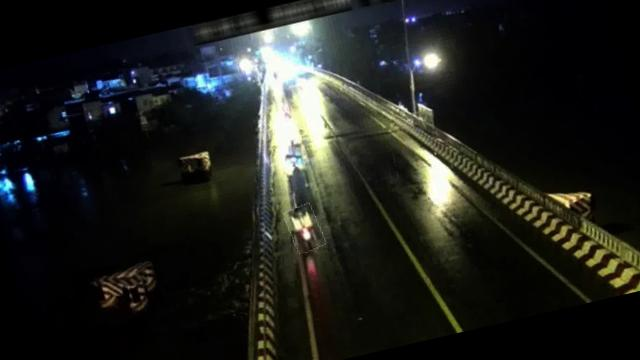Bike: (284, 202, 326, 254), (280, 136, 306, 170)
